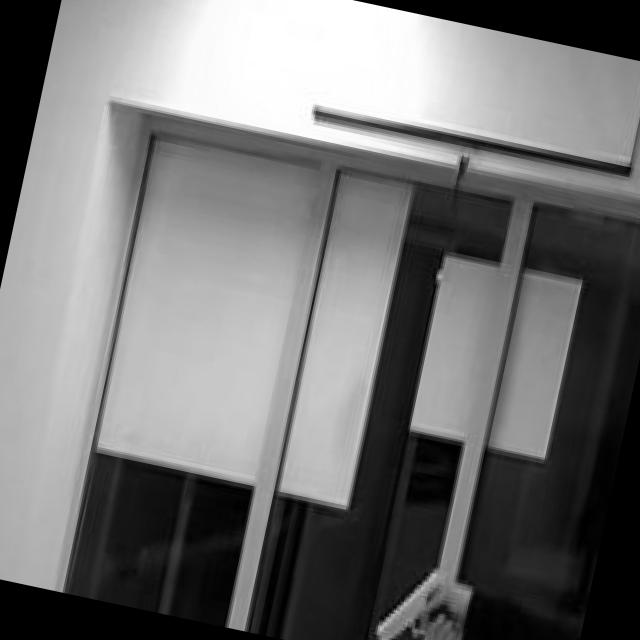Guns: (362, 547, 477, 640)
